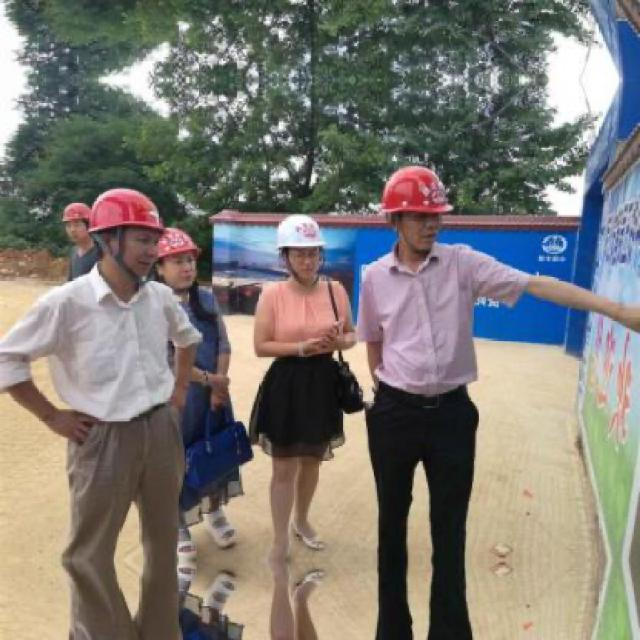helmet: (88, 183, 162, 282), (377, 158, 452, 251), (271, 209, 334, 285), (154, 228, 206, 294), (61, 198, 94, 244)
